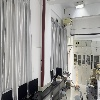fire: (75, 70, 78, 86)
